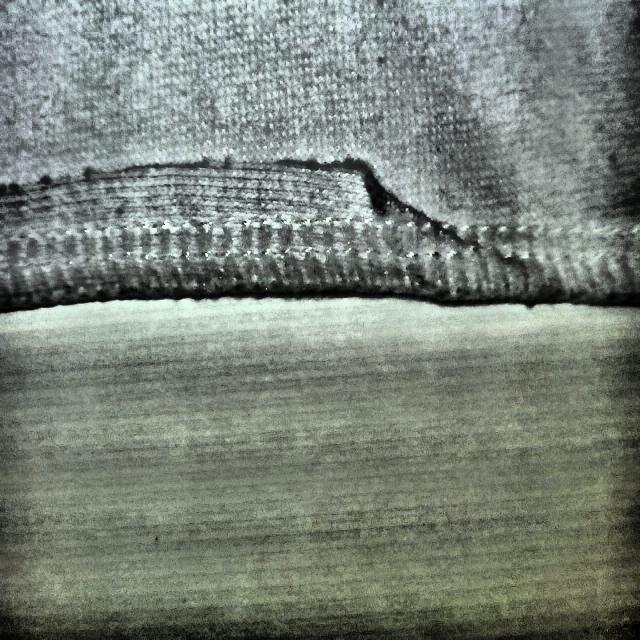gray stitch: (0, 126, 431, 310)
